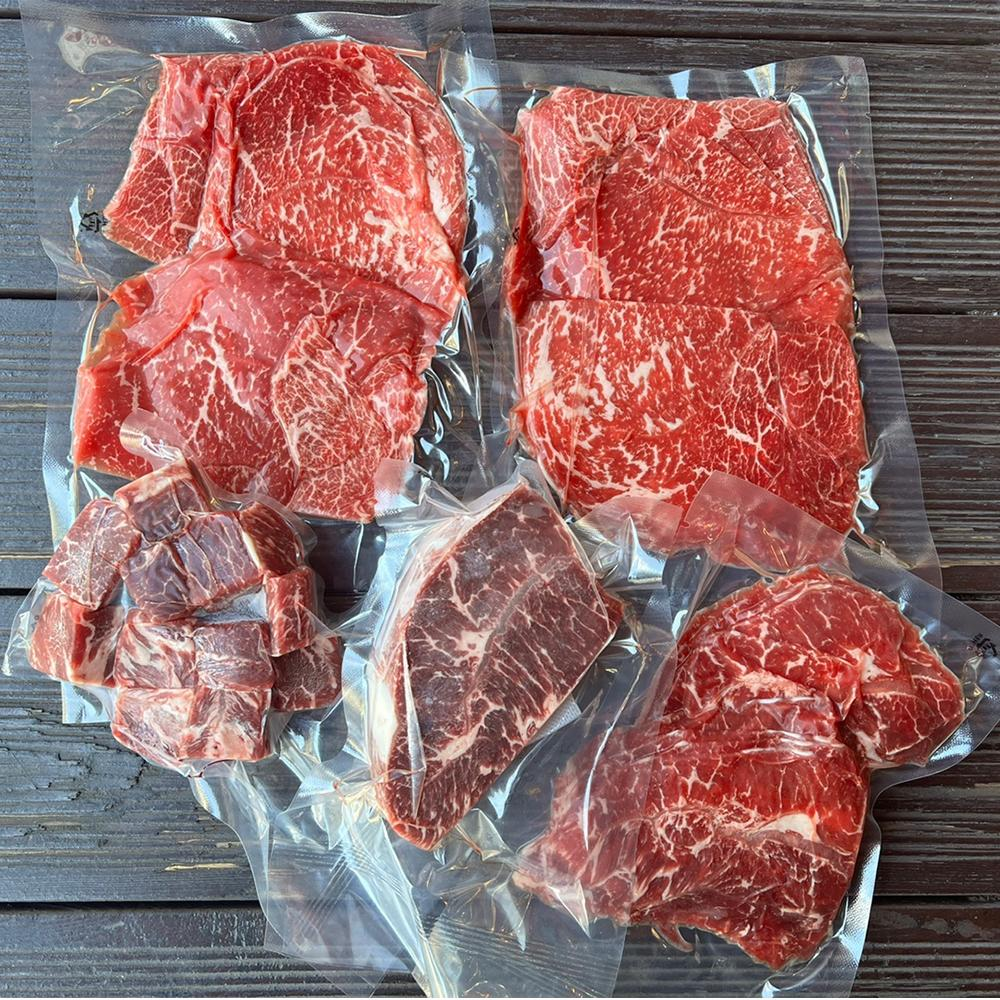beef: (114, 403, 672, 791), (216, 81, 731, 466), (567, 739, 975, 1000), (731, 466, 1000, 850), (717, 127, 1000, 483), (732, 714, 1000, 1000)
